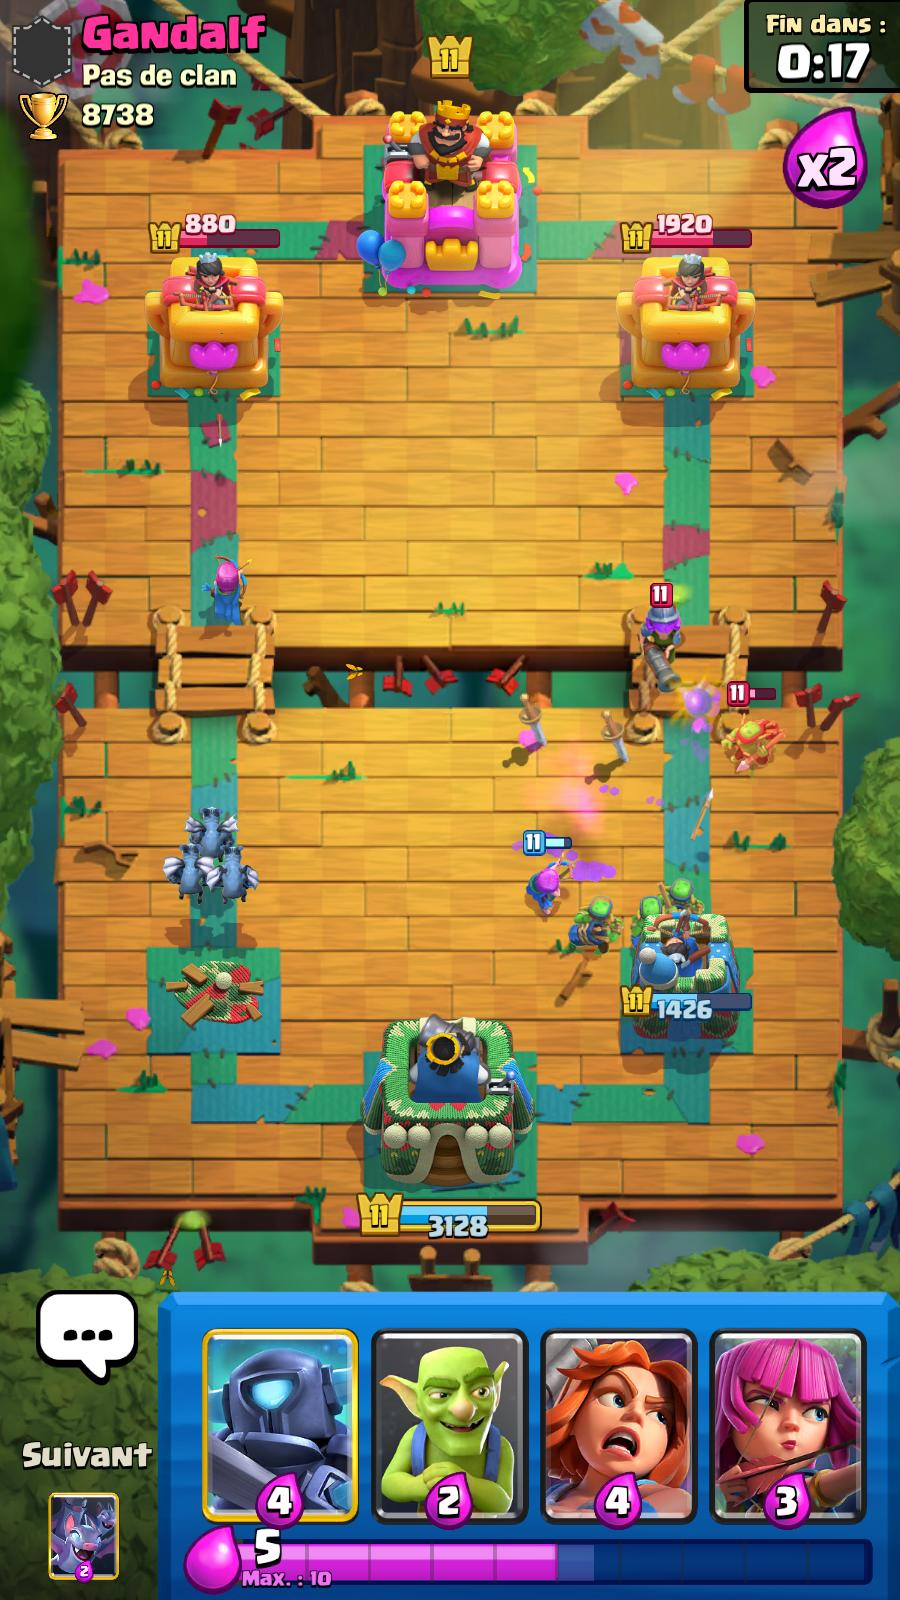archere: (198, 549, 264, 632), (529, 840, 584, 915)
gargouille: (157, 838, 218, 905), (205, 843, 263, 912), (179, 802, 243, 852)
gobelin_lances: (549, 892, 634, 967), (714, 703, 786, 776), (658, 866, 707, 925), (634, 875, 667, 951)
mousquetaire: (624, 575, 693, 696)
